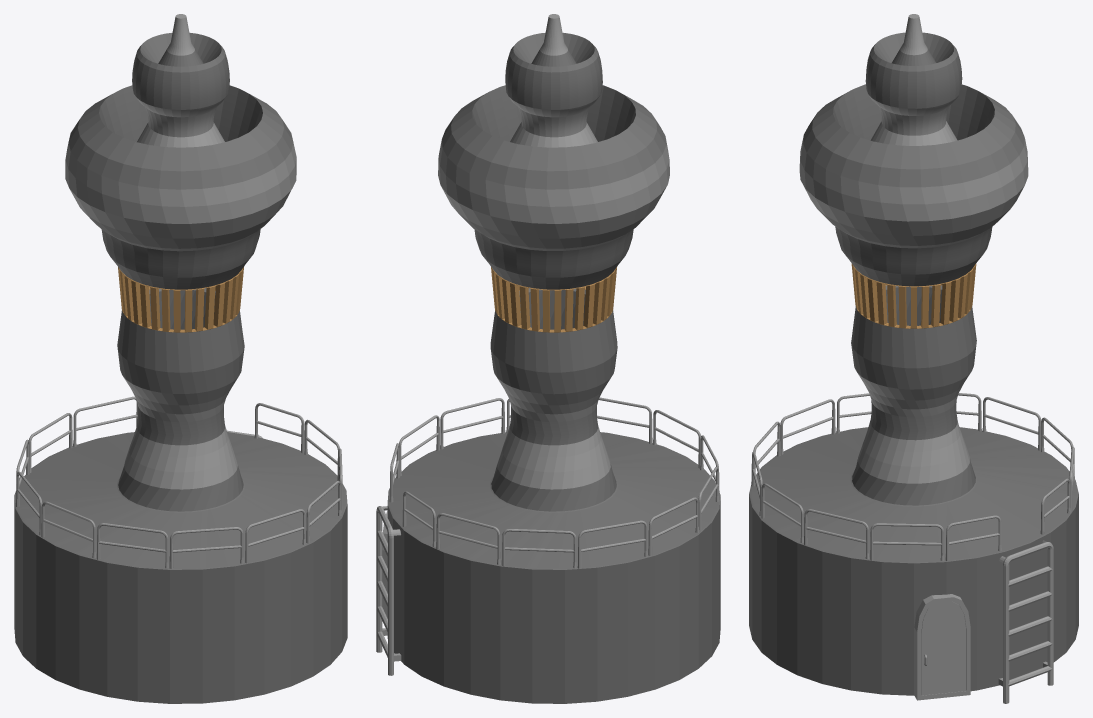
File: pomp.fbx
The picture shows the model from 3 angles, left to right: view 1: azimuth 30°, elevation 25°; view 2: azimuth 150°, elevation 25°; view 3: azimuth 270°, elevation 25°; orthographic projection.
Visible parts, largest first — view 1: Cylinder.019, Cylinder.021, Cylinder.020; view 2: Cylinder.019, Cylinder.021, Cylinder.020, Cylinder.035; view 3: Cylinder.019, Cylinder.021, Cylinder.036, Cylinder.020, Cylinder.035.
Boxes of the visible parts, x1=… form: Cylinder.019: x1=14, y1=14, x2=347, y2=703; Cylinder.021: x1=15, y1=396, x2=342, y2=568; Cylinder.020: x1=118, y1=267, x2=243, y2=332; Cylinder.019: x1=387, y1=14, x2=720, y2=703; Cylinder.021: x1=389, y1=397, x2=719, y2=568; Cylinder.020: x1=491, y1=266, x2=617, y2=332; Cylinder.035: x1=376, y1=506, x2=401, y2=675; Cylinder.019: x1=749, y1=14, x2=1078, y2=695; Cylinder.021: x1=751, y1=393, x2=1075, y2=561; Cylinder.036: x1=914, y1=594, x2=970, y2=700; Cylinder.020: x1=851, y1=263, x2=976, y2=328; Cylinder.035: x1=998, y1=540, x2=1053, y2=703.
Bounding box in the file's own units: 1248 × 2508 × 1200.
